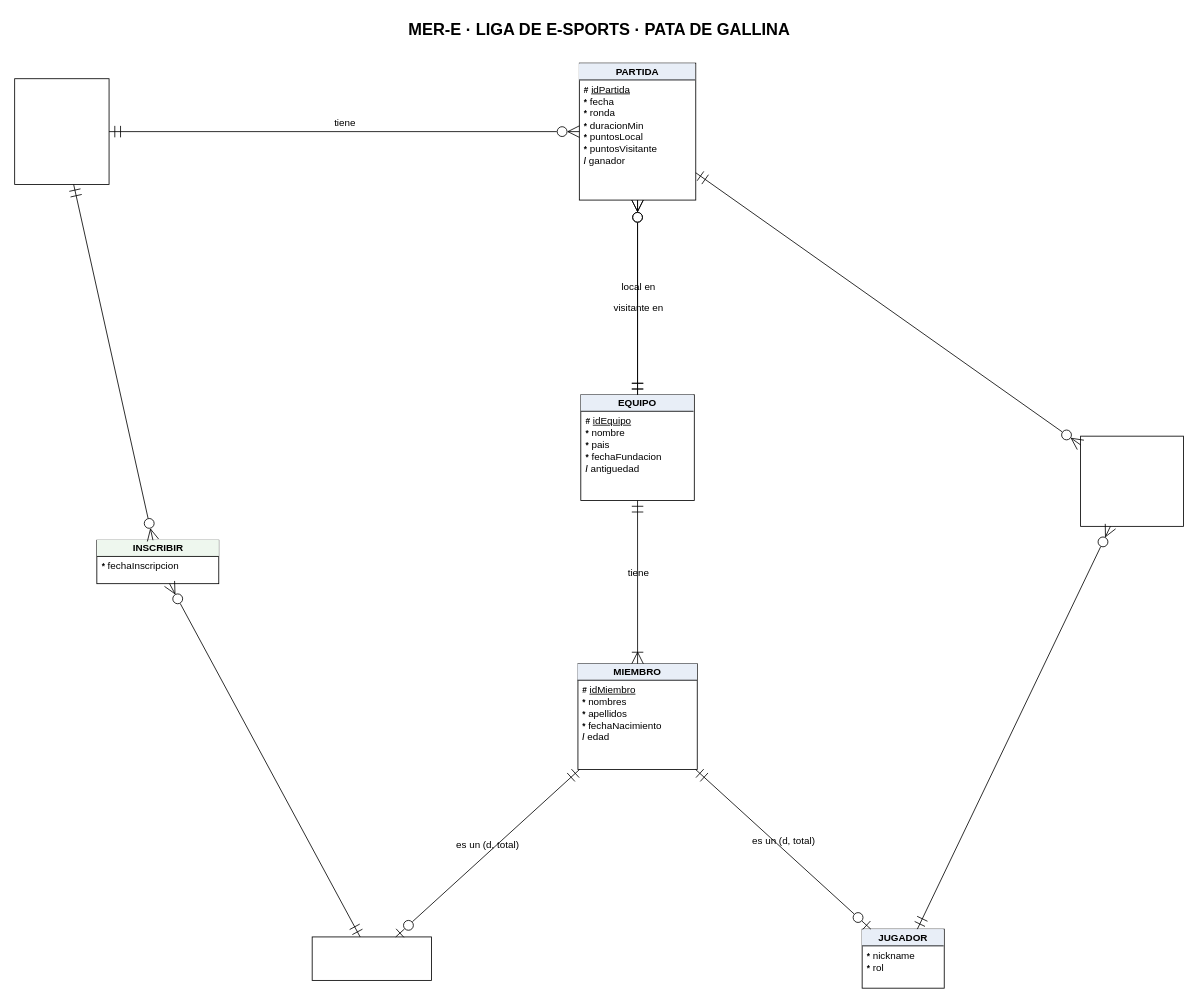
The diagram is 1198 pixels wide and 1003 high, and some of its shapes have lost their labels. The box of each missing label's shape, as (x1, y1, x2, y2) in pixels:
ENTRENADOR * aniosExperiencia: (311, 936, 432, 980)
PARTICIPAR * kills * muertes * asistencias / kda: (1080, 435, 1184, 526)
TORNEO # idTorneo * nombre * videojuego * fechaInicio * premio: (14, 78, 109, 184)
